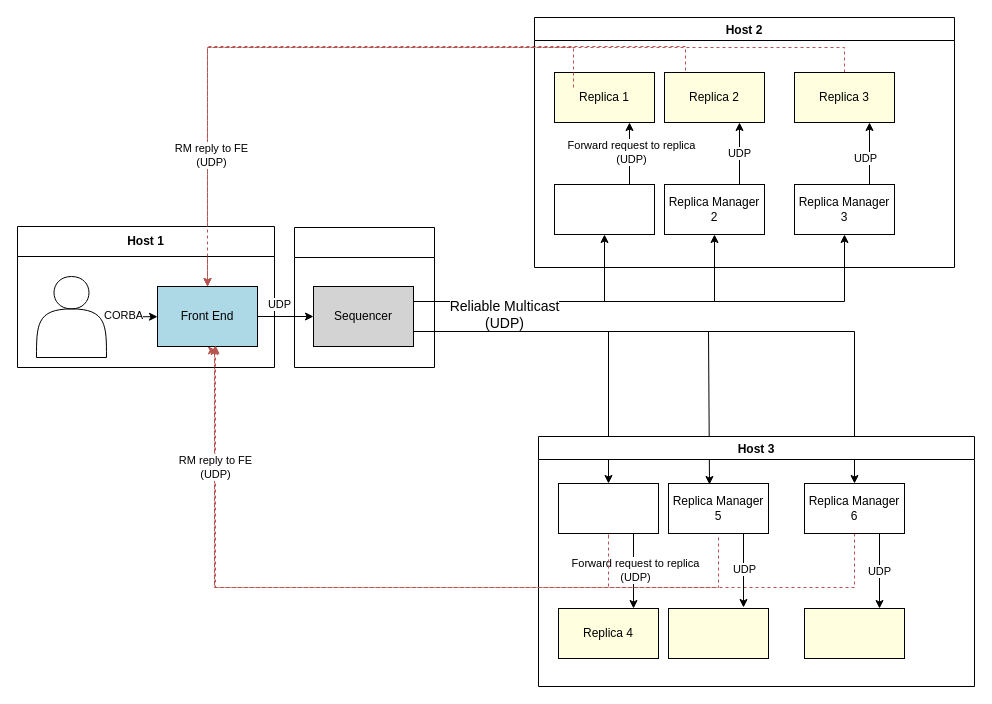
Some shapes in this 992 by 704 pixel diagram are drawn without their labels. Here are the shapes that lost their labels. From the top down, the centre of each, then its label:
(x=604, y=209): Replica Manager 1
(x=71, y=317): Client
(x=364, y=297): Sequencer Host
(x=608, y=508): Replica Manager 4
(x=718, y=633): Replica 5
(x=854, y=633): Replica 6
